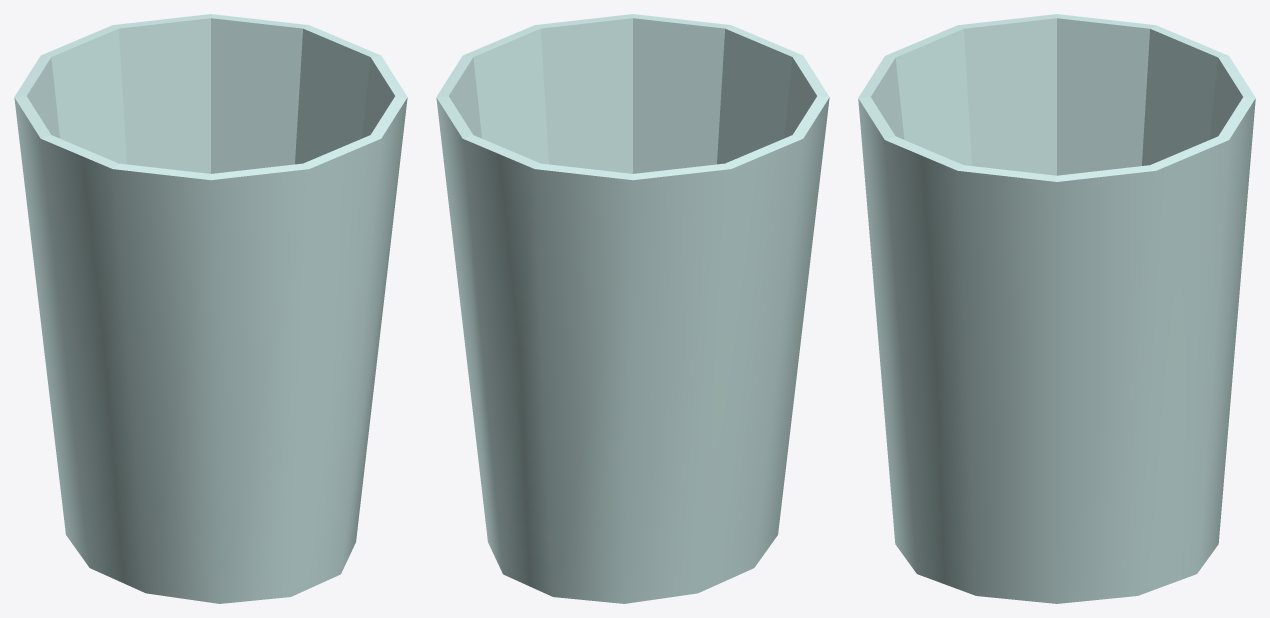
File: appleJuice.FBX
The picture shows the model from 3 angles, left to right: view 1: azimuth 30°, elevation 25°; view 2: azimuth 150°, elevation 25°; view 3: azimuth 270°, elevation 25°; orthographic projection.
Visible parts, largest first — view 1: Cylinder001; view 2: Cylinder001; view 3: Cylinder001.
Part boxes in pixels (x1=…): Cylinder001: x1=14, y1=14, x2=407, y2=603; Cylinder001: x1=436, y1=14, x2=829, y2=603; Cylinder001: x1=858, y1=14, x2=1255, y2=603.
Size of the model in its own units: 43.96 by 54.56 by 43.96.
